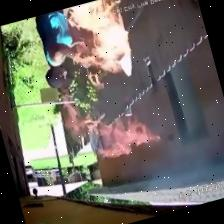person: (36, 9, 82, 87)
